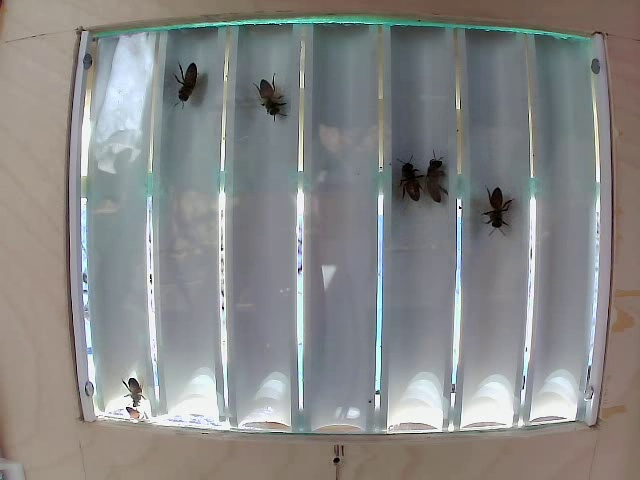bee: (489, 175, 526, 242), (388, 148, 427, 208), (167, 63, 205, 118), (252, 78, 289, 134), (429, 150, 451, 207)
